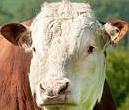muzzles: (34, 78, 79, 108)
